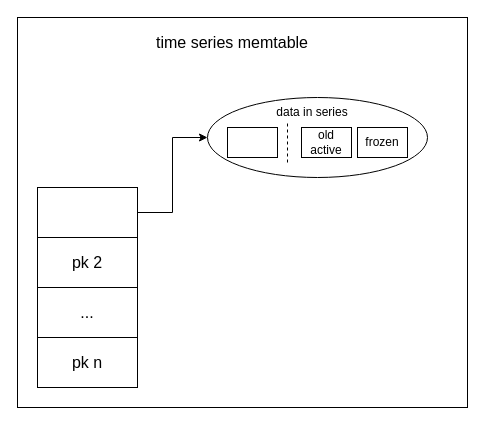
The diagram is 485 pixels wide and 425 high, and some of its shapes have lost their labels. The centre of each missing label's shape, as x and y in pixels:
active: [252,142]
pk 1 (series): [87,212]
